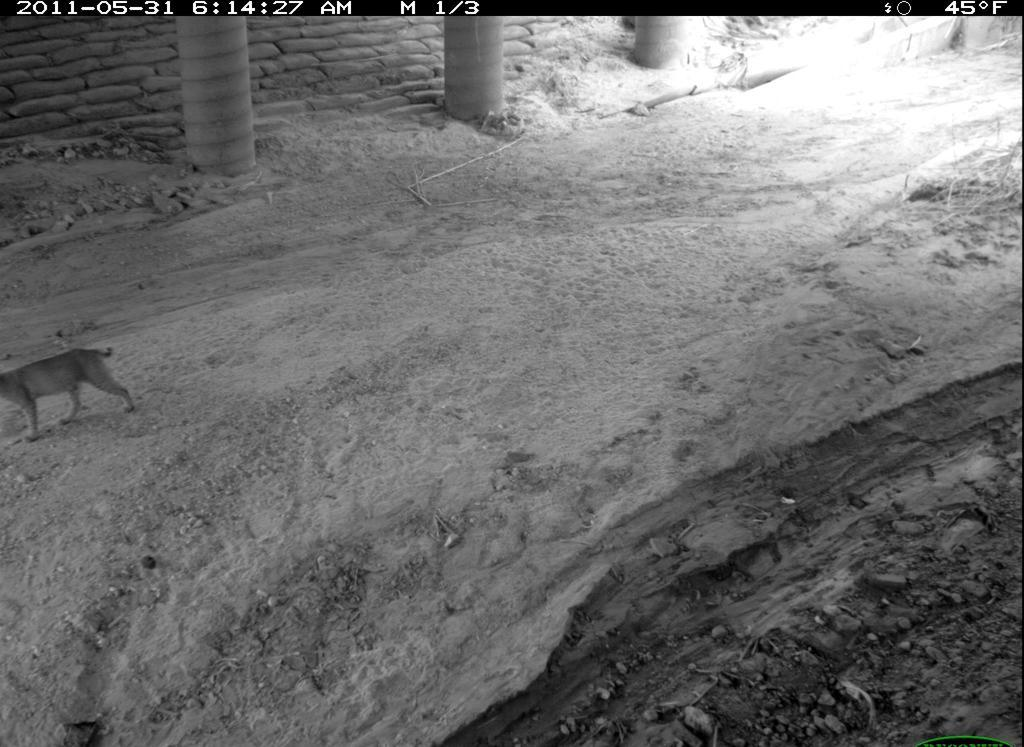bobcat: (2, 338, 141, 447)
